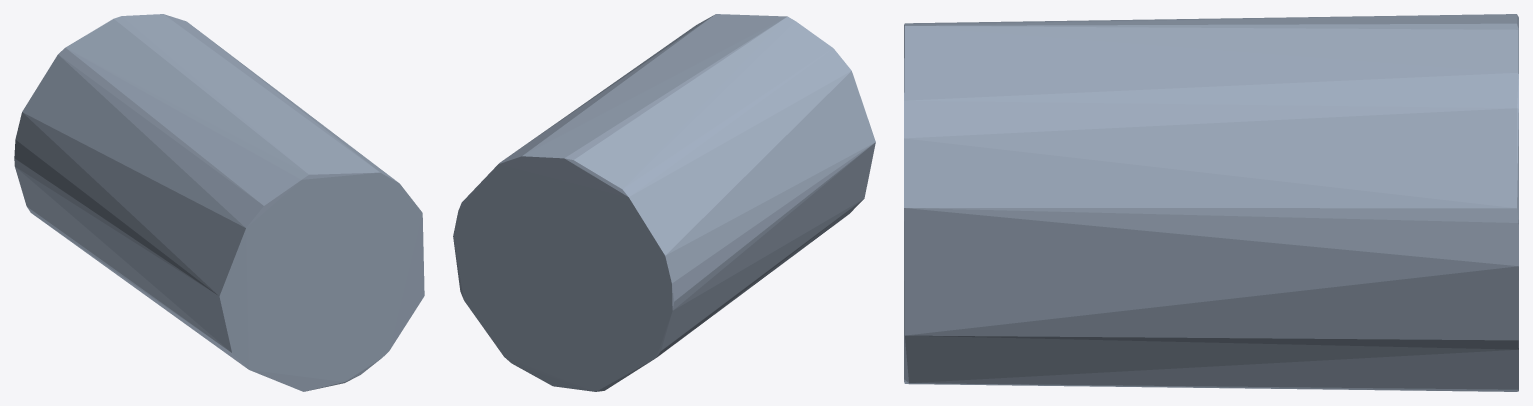
File: food_beverage_coffeeCup_d01.glb
3 views of the same model, side by side, from view 1: azimuth 30°, elevation 25°; view 2: azimuth 150°, elevation 25°; view 3: azimuth 270°, elevation 25° (orthographic). The views are drawn at different scales.
Visible parts, largest first — view 1: geometry_0; view 2: geometry_0; view 3: geometry_0.
Boxes of the visible parts, <box> form: geometry_0: <box>14,14,424,391</box>; geometry_0: <box>453,14,875,391</box>; geometry_0: <box>904,14,1518,391</box>.
Size of the model in its own units: 0.2951 by 0.295 by 0.48.
